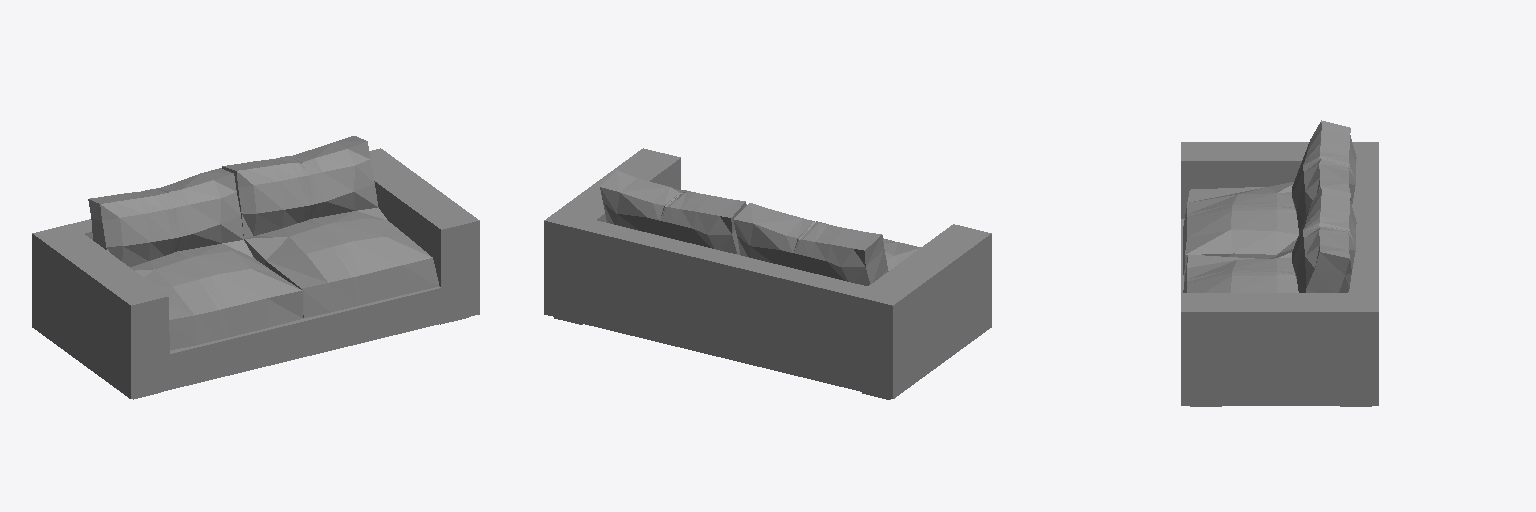
Rendered from Sofa.unity_1.obj.
The picture shows the model from 3 angles: view 1: azimuth 30°, elevation 25°; view 2: azimuth 150°, elevation 25°; view 3: azimuth 270°, elevation 25°; orthographic projection.
Parts seen in each view (by area): view 1: sofa; view 2: sofa; view 3: sofa.
Part boxes in pixels (x1,y1,x2,y2): sofa: (32,136,479,399); sofa: (544,148,991,399); sofa: (1181,120,1378,406).
Size of the model in its own units: 2.12 by 0.8093 by 1.04.